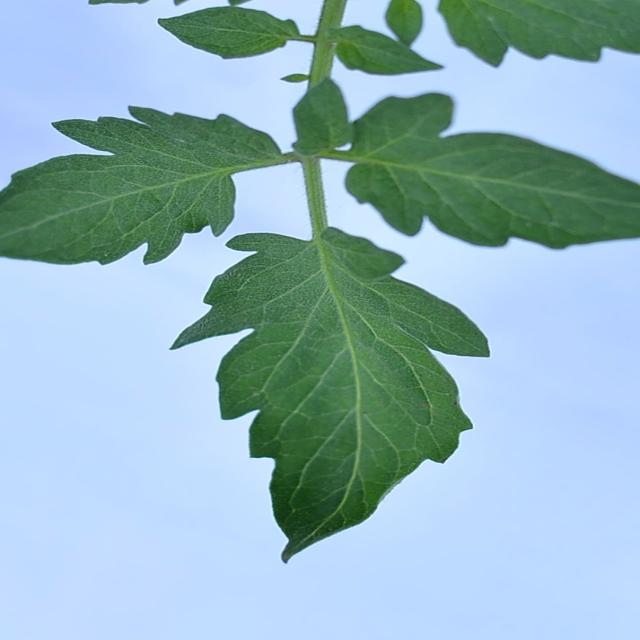healthy: (169, 233, 495, 569), (327, 79, 640, 274), (2, 91, 304, 286), (148, 2, 474, 81)
